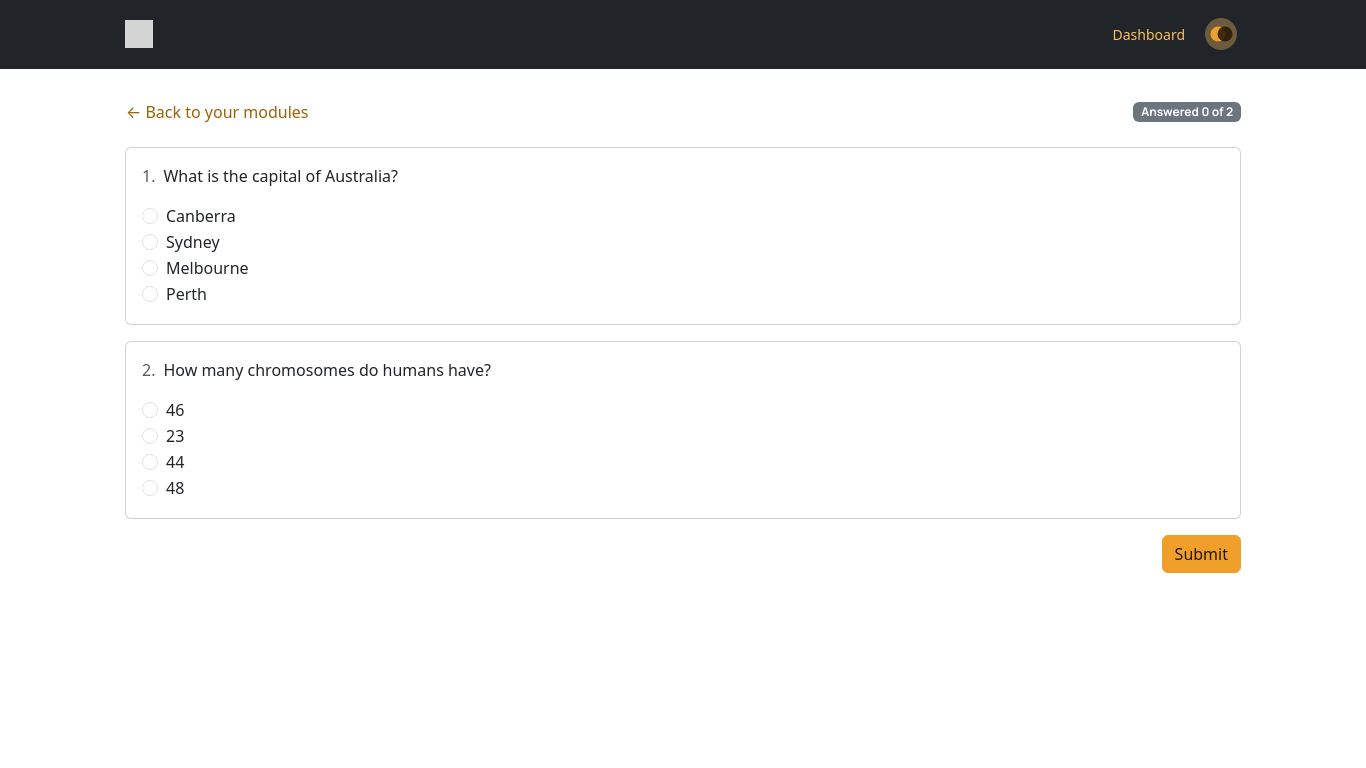
Test: answering questions › shows an incorrect mark from the server response
Expected: the text "What is the capital of Australia?" is shown, [164,165,398,187]
Click the radio button labelled "Sydney". click: [150, 242]
box: [142,234,158,250]
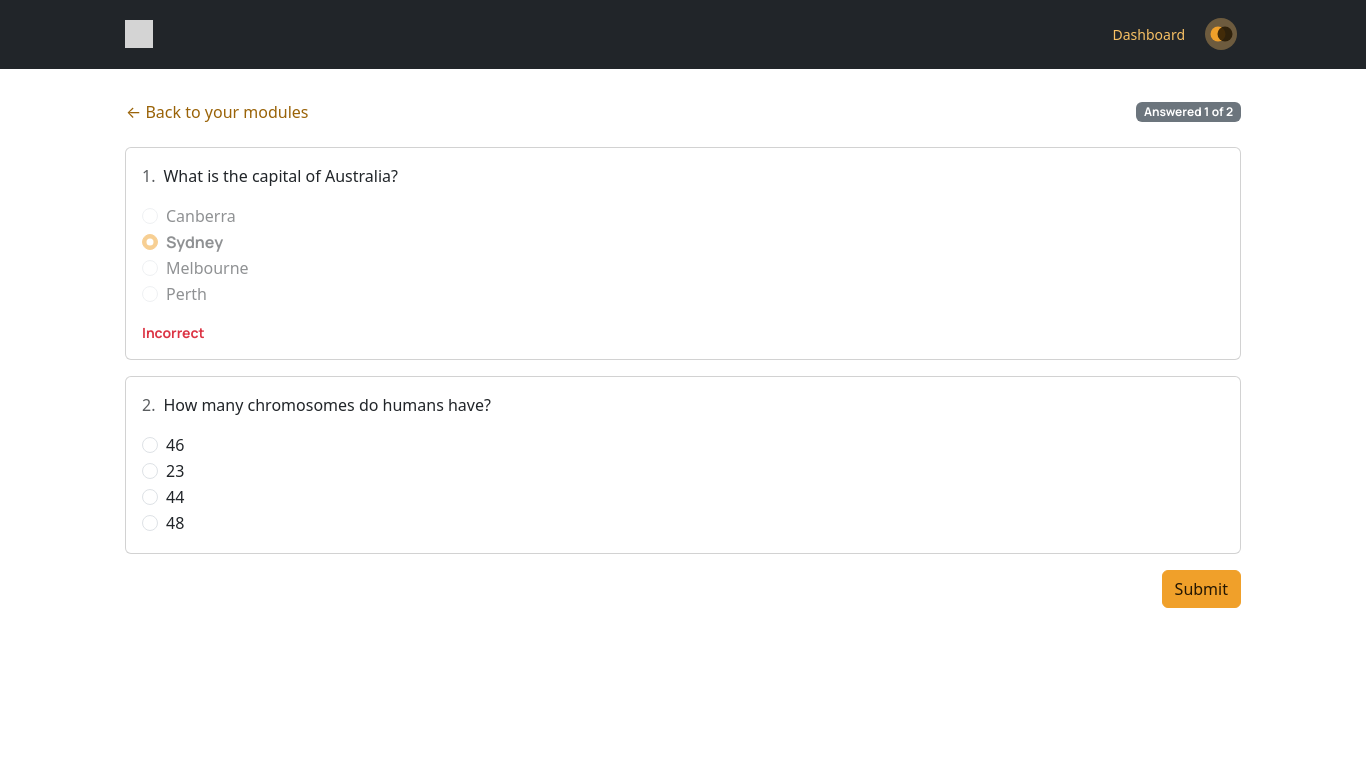
Now the text "Incorrect" is shown, box [142,323,205,342]
